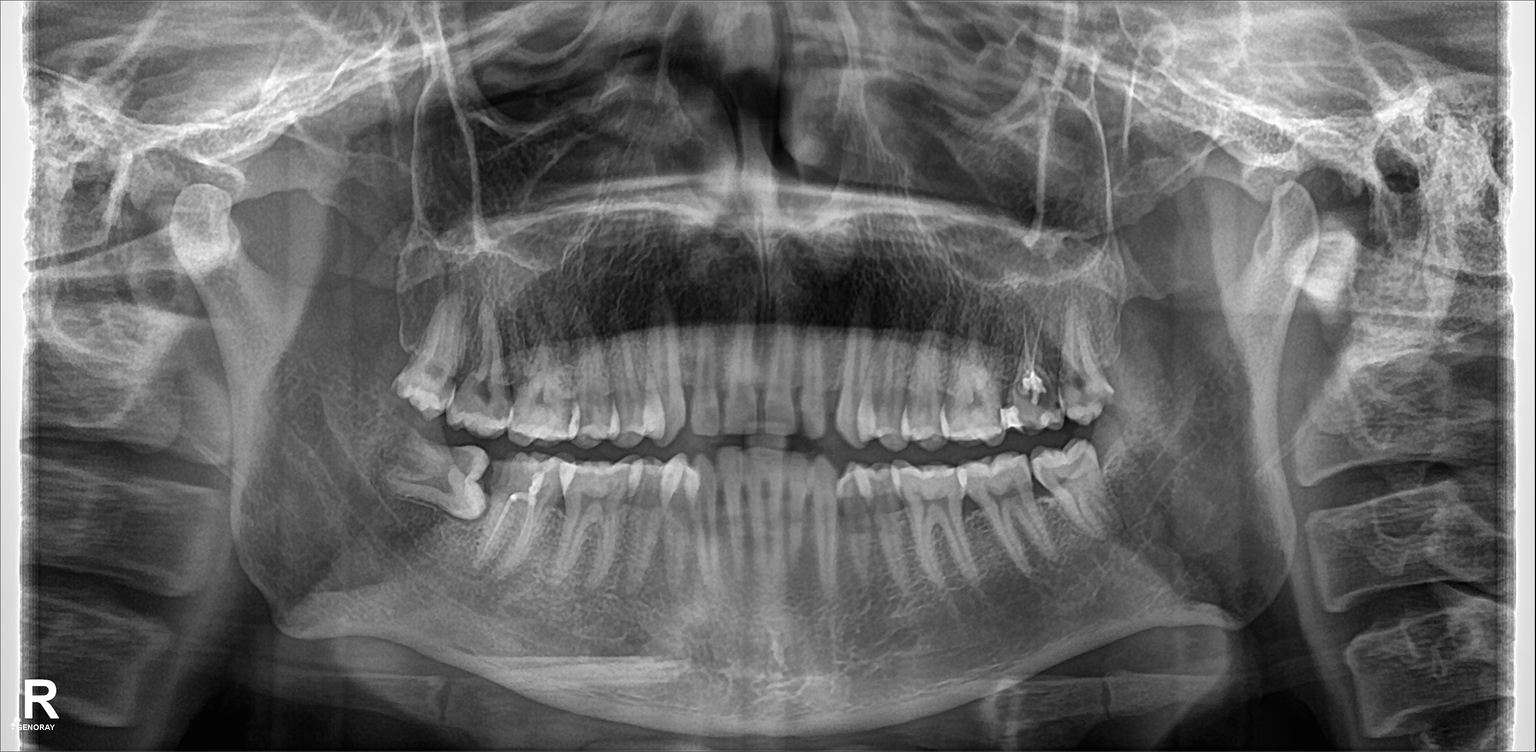Endodontically Treated Tooth: (1006, 344, 1049, 434)
Impacted Third Molar: (387, 443, 489, 509), (1061, 326, 1120, 425)
